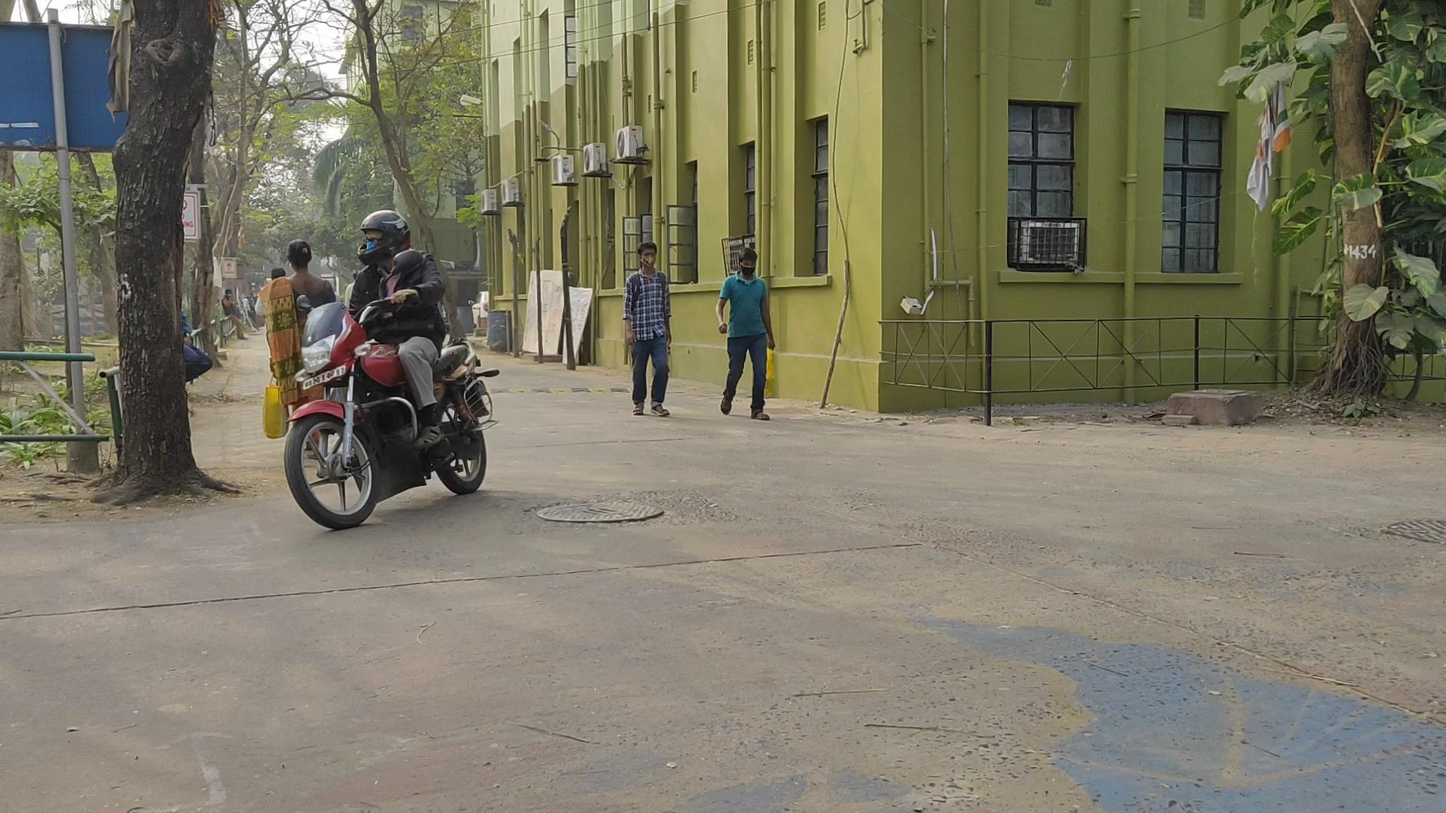bike: (285, 210, 502, 528)
